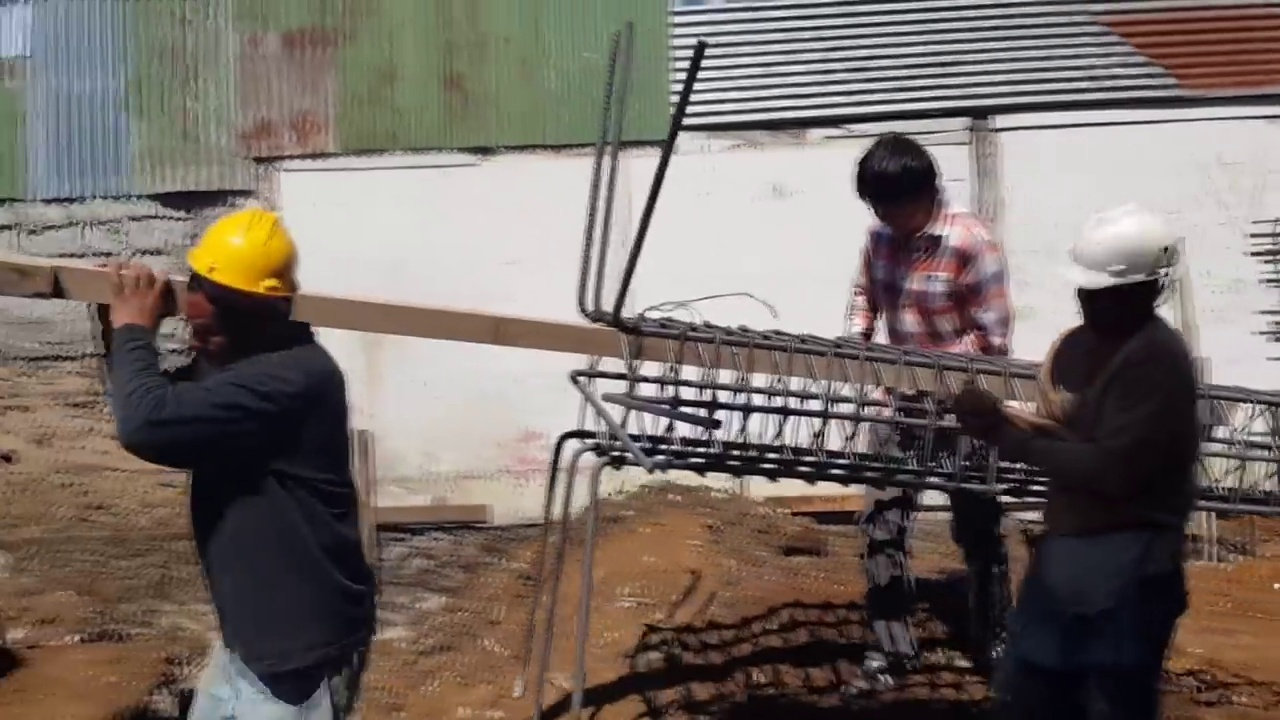helmet: (177, 203, 297, 302), (1071, 213, 1187, 297)
helmet-off: (855, 132, 944, 251)
helmet-on: (170, 201, 296, 347), (1076, 212, 1188, 362)
person: (57, 194, 370, 720), (968, 200, 1201, 717), (827, 144, 994, 670)
